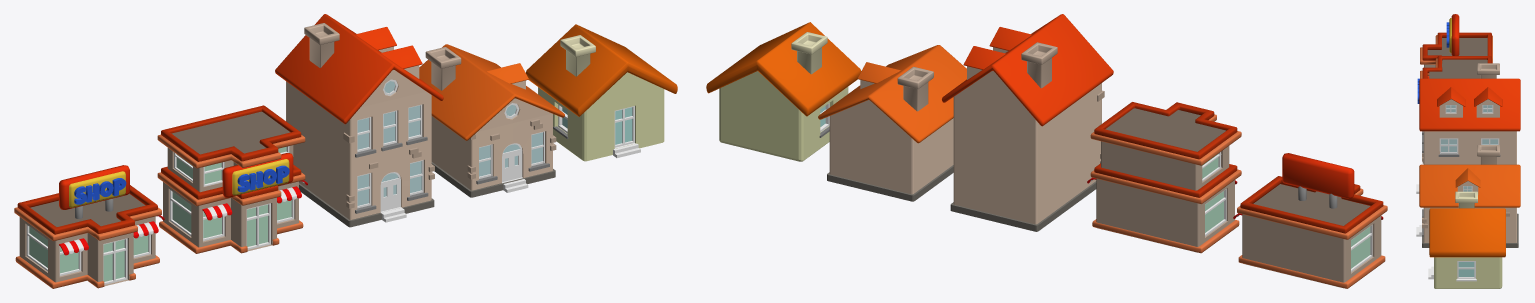
The model's file is house1.glb.
The picture shows the model from 3 angles, left to right: view 1: azimuth 30°, elevation 25°; view 2: azimuth 150°, elevation 25°; view 3: azimuth 270°, elevation 25°; orthographic projection. The views are drawn at different scales.
Parts seen in each view (by area): view 1: House 2_1, House 1_0, monopoly house_2, Cube.001_3, Cube.008_15, Cube.016_25, Cube.018_27, Cube.004_5, Cube.013_19, Cube.017_26, Cube.002_4, Cube.009_7 (+10 smaller); view 2: House 2_1, House 1_0, monopoly house_2, Cube.001_3, Cube.016_25, Cube.008_15, Cube.018_27, Cube.006_10, Cube.004_5, Cube.011_17, Cube.002_4, Cube.017_26 (+4 smaller); view 3: House 2_1, monopoly house_2, House 1_0, Cube.016_25, Cube.001_3, Cube.004_5, Cube.018_27, Cube.006_10, Cube.002_4, Text_11, Cube.007_12.
Part boxes in pixels (left/top/right/bottom): House 2_1: left=275, top=14, right=443, bottom=227; House 1_0: left=419, top=44, right=564, bottom=197; monopoly house_2: left=526, top=24, right=677, bottom=161; Cube.001_3: left=19, top=193, right=155, bottom=286; Cube.008_15: left=163, top=181, right=298, bottom=251; Cube.016_25: left=167, top=111, right=293, bottom=192; Cube.018_27: left=161, top=105, right=301, bottom=161; Cube.004_5: left=17, top=185, right=157, bottom=234; Cube.013_19: left=170, top=146, right=294, bottom=249; Cube.017_26: left=157, top=134, right=305, bottom=168; Cube.002_4: left=14, top=207, right=161, bottom=241; Cube.009_7: left=26, top=225, right=150, bottom=284; House 2_1: left=942, top=14, right=1113, bottom=231; House 1_0: left=818, top=45, right=966, bottom=201; monopoly house_2: left=706, top=22, right=861, bottom=161; Cube.001_3: left=1242, top=184, right=1381, bottom=288; Cube.016_25: left=1101, top=108, right=1229, bottom=190; Cube.008_15: left=1096, top=178, right=1234, bottom=252; Cube.018_27: left=1094, top=102, right=1237, bottom=159; Cube.006_10: left=1282, top=153, right=1354, bottom=198; Cube.004_5: left=1240, top=176, right=1383, bottom=233; Cube.011_17: left=1094, top=163, right=1237, bottom=197; Cube.002_4: left=1237, top=188, right=1387, bottom=239; Cube.017_26: left=1090, top=114, right=1241, bottom=165; House 2_1: left=1416, top=63, right=1520, bottom=193; monopoly house_2: left=1428, top=191, right=1505, bottom=288; House 1_0: left=1416, top=145, right=1520, bottom=247; Cube.016_25: left=1429, top=59, right=1487, bottom=78; Cube.001_3: left=1424, top=38, right=1487, bottom=67; Cube.004_5: left=1422, top=32, right=1491, bottom=71; Cube.018_27: left=1422, top=56, right=1491, bottom=78; Cube.006_10: left=1451, top=14, right=1459, bottom=55; Cube.002_4: left=1420, top=35, right=1492, bottom=64; Text_11: left=1446, top=22, right=1449, bottom=47; Cube.007_12: left=1449, top=18, right=1451, bottom=53.
Bounding box in the file's own units: 15.13 × 3.7 × 3.04.
